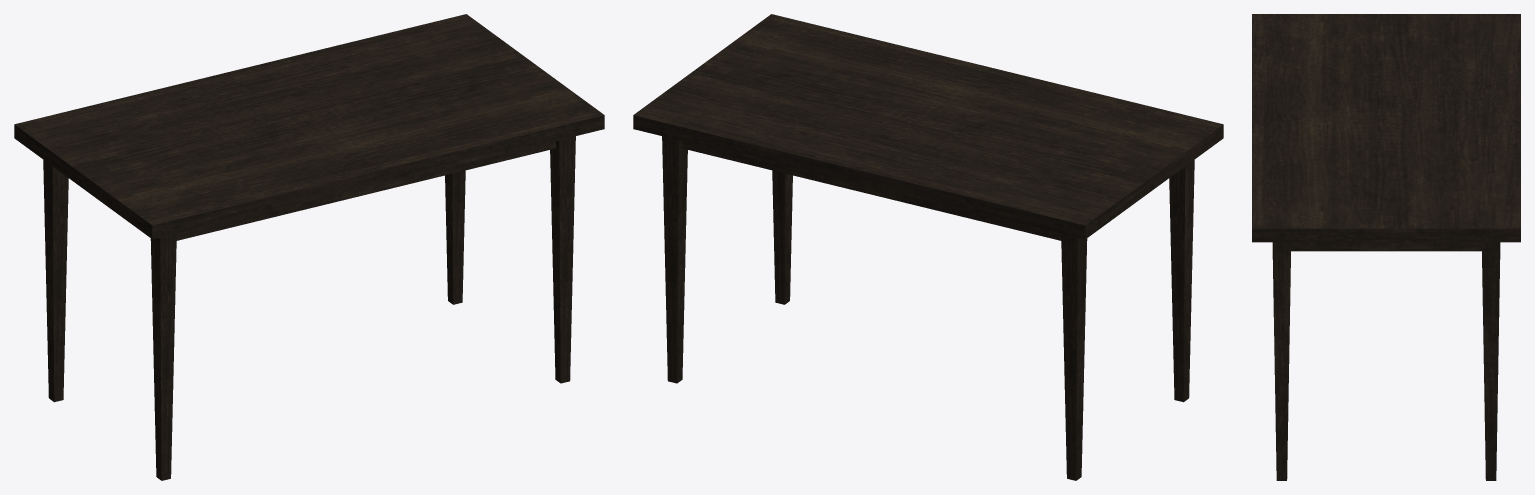
The model's file is table_large_2_2.fbx.
3 views of the same model, side by side, from view 1: azimuth 30°, elevation 25°; view 2: azimuth 150°, elevation 25°; view 3: azimuth 270°, elevation 25° (orthographic). The views are drawn at different scales.
Visible parts, largest first — view 1: table_large_2_2; view 2: table_large_2_2; view 3: table_large_2_2.
Boxes of the visible parts, x1,y1,x2,y2 form: table_large_2_2: (14, 14, 604, 480); table_large_2_2: (633, 14, 1223, 480); table_large_2_2: (1252, 14, 1520, 480).
Size of the model in its own units: 1.7 by 0.9 by 0.97.
